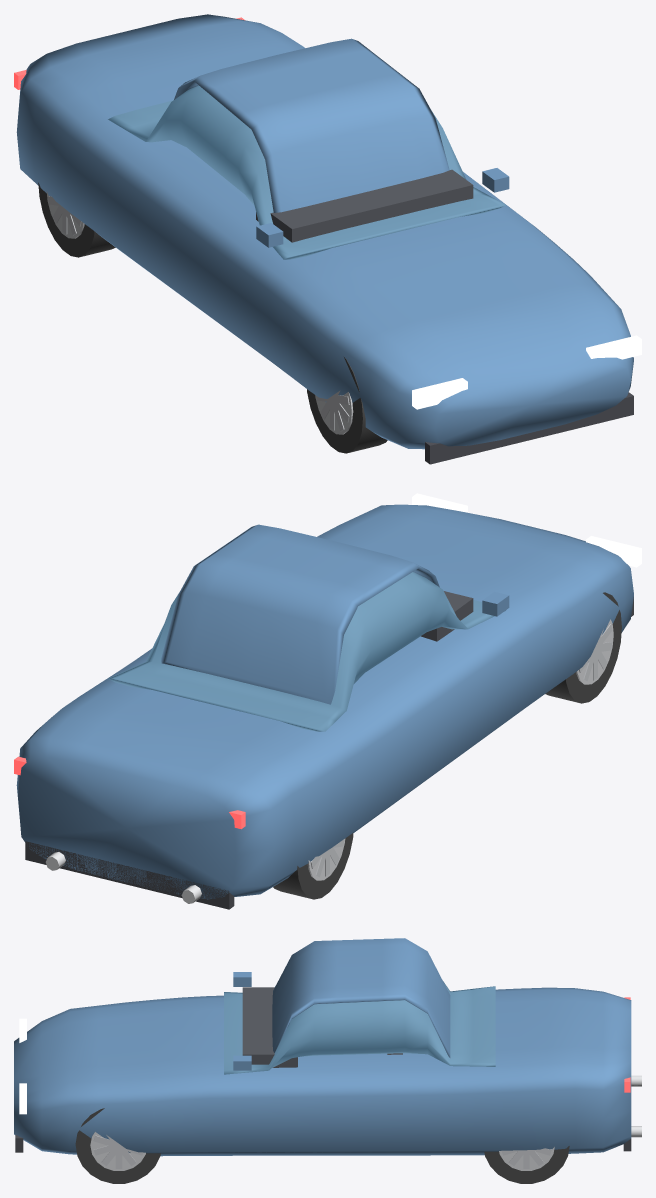
Rendered from meridian.glb.
The picture shows the model from 3 angles, top to bottom: view 1: azimuth 30°, elevation 25°; view 2: azimuth 150°, elevation 25°; view 3: azimuth 270°, elevation 25°; orthographic projection. The views are drawn at different scales.
Parts seen in each view (by area): view 1: Body, Roof, Glass, Interior, Car_meridian, Wheel_FR, Wheel_RR; view 2: Body, Roof, Glass, Car_meridian, Wheel_FR, Wheel_RR, Interior; view 3: Body, Glass, Roof, Wheel_FL, Interior, Wheel_RL, Car_meridian.
Boxes of the visible parts, x1,y1,x2,y2 form: Body: (16,14,633,449); Roof: (174,38,449,212); Glass: (108,85,506,259); Interior: (256,169,473,242); Car_meridian: (14,17,641,464); Wheel_FR: (307,356,387,453); Wheel_RR: (38,182,115,257); Body: (16,504,633,899); Roof: (161,524,439,704); Glass: (108,572,505,731); Car_meridian: (14,493,641,909); Wheel_FR: (545,592,621,703); Wheel_RR: (273,833,353,899); Interior: (421,591,473,641); Body: (14,987,631,1156); Glass: (224,981,495,1074); Roof: (272,938,450,1057); Wheel_FL: (75,1108,160,1183); Interior: (242,987,402,1067); Wheel_RL: (484,1146,569,1183); Car_meridian: (15,972,641,1152).
Size of the model in its own units: 1.82 by 1.44 by 4.78.
